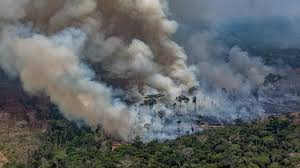smoke: (122, 17, 281, 111), (5, 1, 128, 109), (92, 86, 203, 136)
